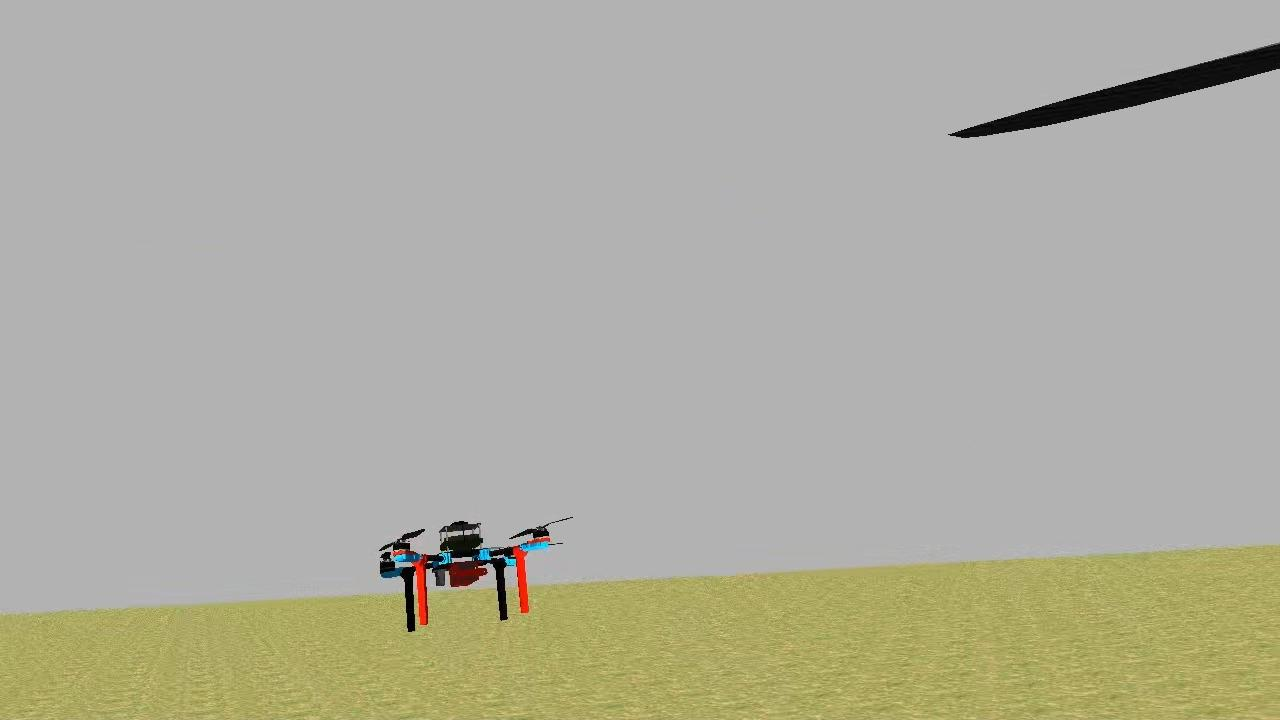UAV: (372, 508, 562, 638)
